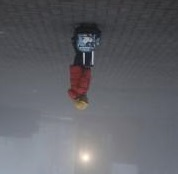person: (65, 26, 100, 111)
